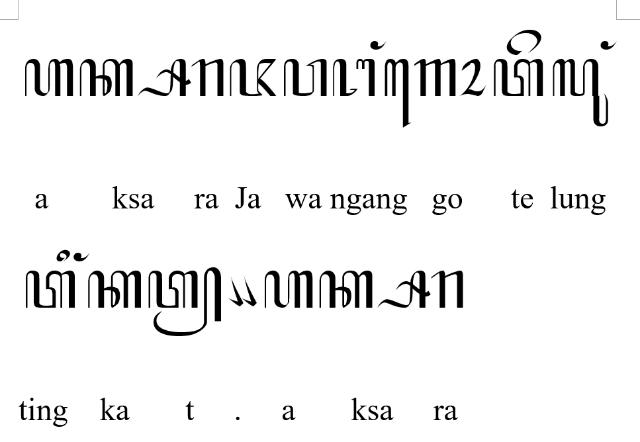_s: (138, 57, 192, 96), (376, 270, 430, 308)
e: (507, 29, 541, 55)
e1: (384, 58, 410, 127)
g: (414, 58, 456, 96)
h: (24, 58, 74, 98), (264, 269, 312, 309)
i: (56, 249, 70, 261)
j: (230, 57, 276, 96)
k: (78, 58, 134, 98), (318, 270, 374, 308), (87, 270, 141, 308)
kom: (228, 277, 244, 307), (242, 277, 256, 307)
lu: (552, 58, 608, 126)
ng: (370, 40, 386, 50), (601, 40, 617, 50), (74, 252, 90, 260)
nga: (332, 58, 376, 98)
o: (459, 59, 486, 97)
r: (192, 57, 224, 96), (432, 270, 463, 308)
t: (148, 266, 222, 337), (493, 58, 543, 96), (26, 271, 74, 309)
w: (283, 57, 327, 96)
